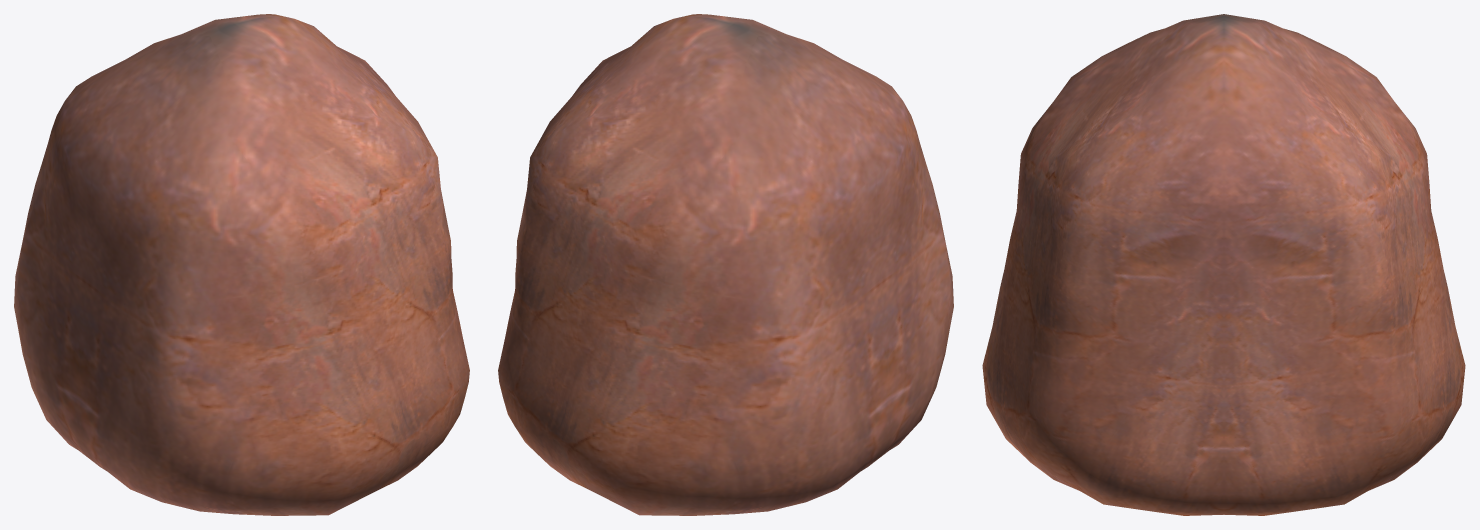
File: weightStoneBottom.obj
The picture shows the model from 3 angles, left to right: view 1: azimuth 30°, elevation 25°; view 2: azimuth 150°, elevation 25°; view 3: azimuth 270°, elevation 25°; orthographic projection.
Parts seen in each view (by area): view 1: weightStoneBottom; view 2: weightStoneBottom; view 3: weightStoneBottom.
Part boxes in pixels (x1=…): weightStoneBottom: x1=14, y1=14, x2=469, y2=515; weightStoneBottom: x1=498, y1=14, x2=953, y2=515; weightStoneBottom: x1=982, y1=14, x2=1465, y2=515.
Bounding box in the file's own units: 1.01 × 1.23 × 1.24.
